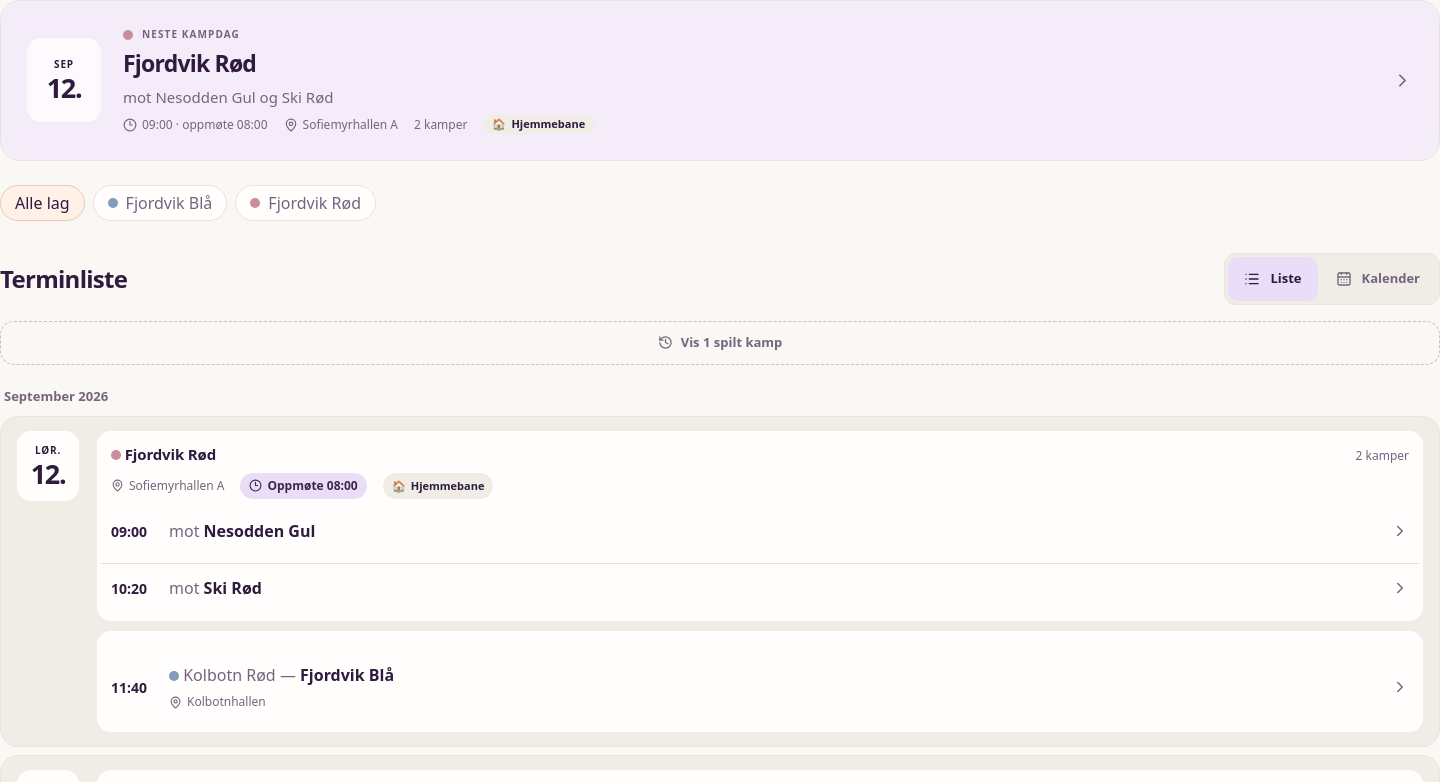
Scenario: MatchCalendar › opens full match details from the agenda
Click the button "09:00 mot Nesodden Gul" at (129, 531), box [101,507,1419,555]
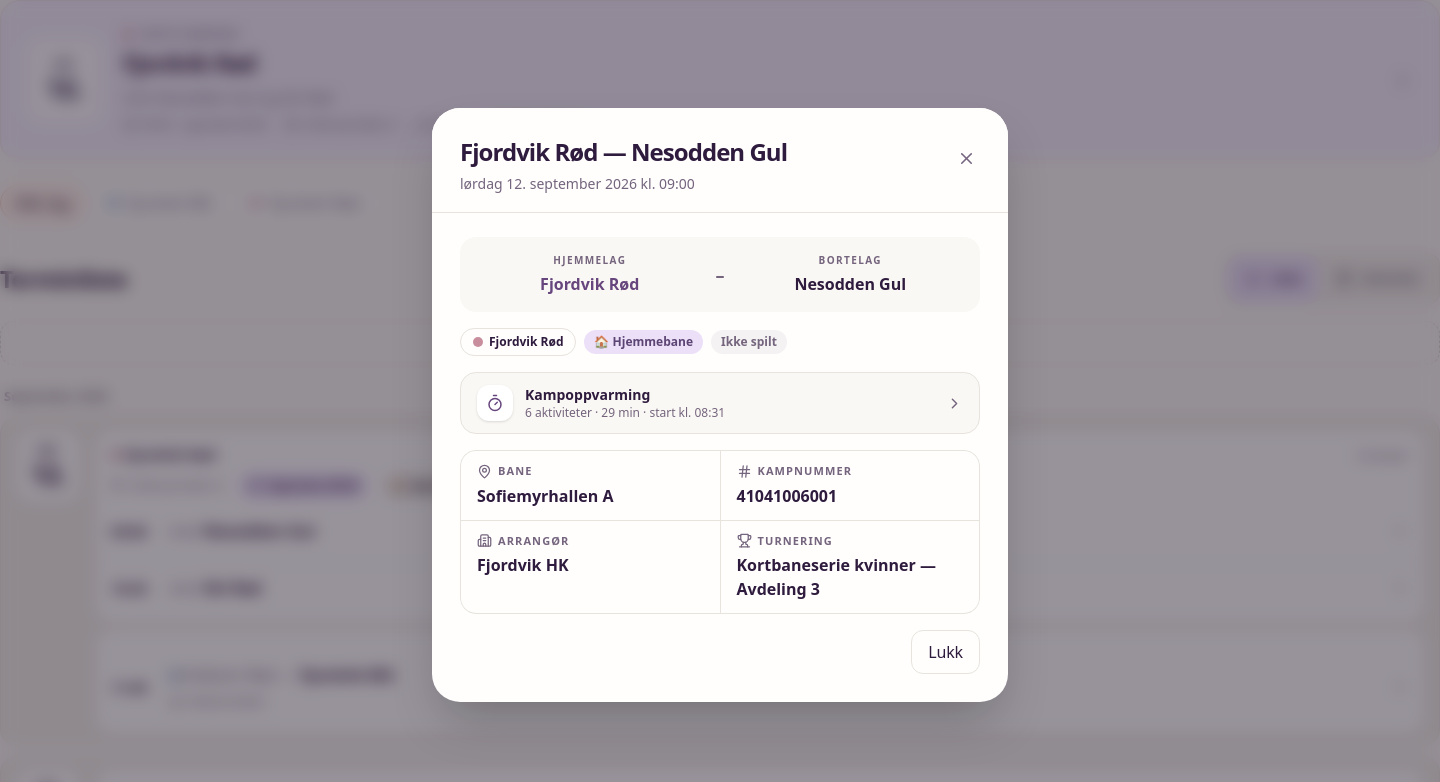
Expected: the dialog is shown, [432,108,1008,702]
Expected: the text "41041006001" is shown, [736,484,837,506]
